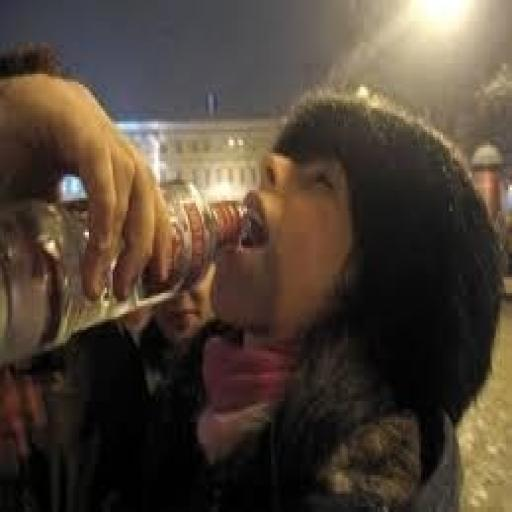drinking: (0, 174, 267, 380)
